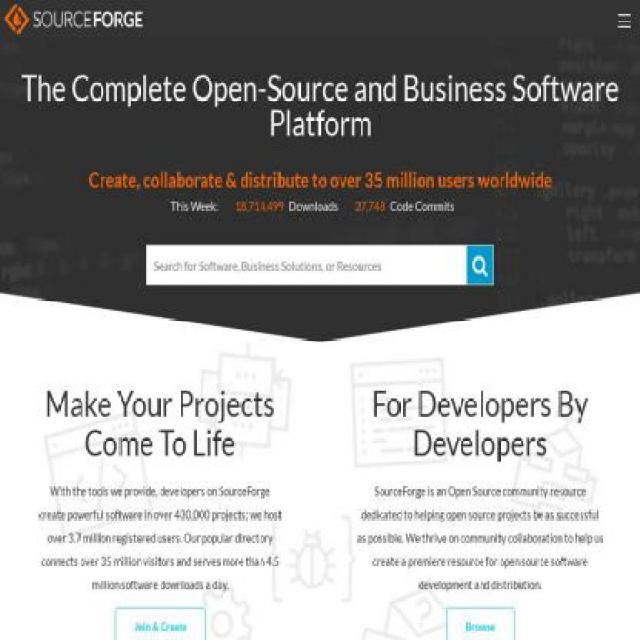button: (3, 0, 142, 38), (114, 607, 206, 639), (446, 607, 514, 639)
field: (147, 246, 467, 285)
